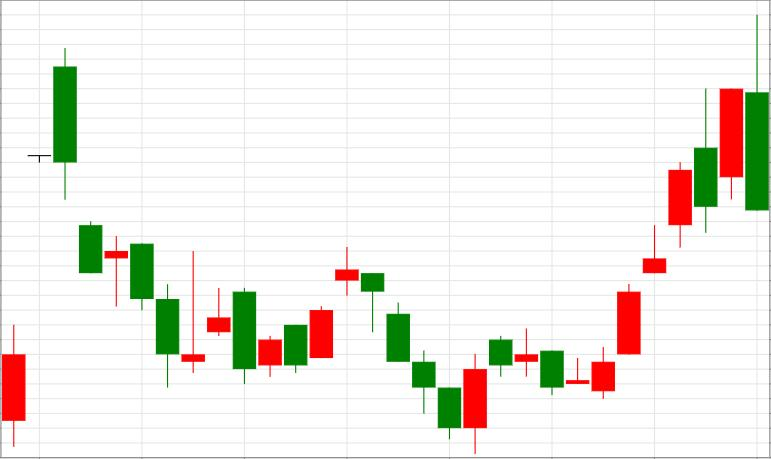bearish_engulfing_fall: (566, 16, 770, 400)
bullish_engulfing_rise: (361, 273, 487, 453)
